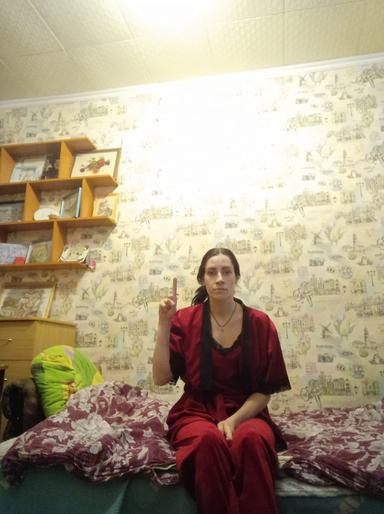one: (157, 277, 178, 322)
